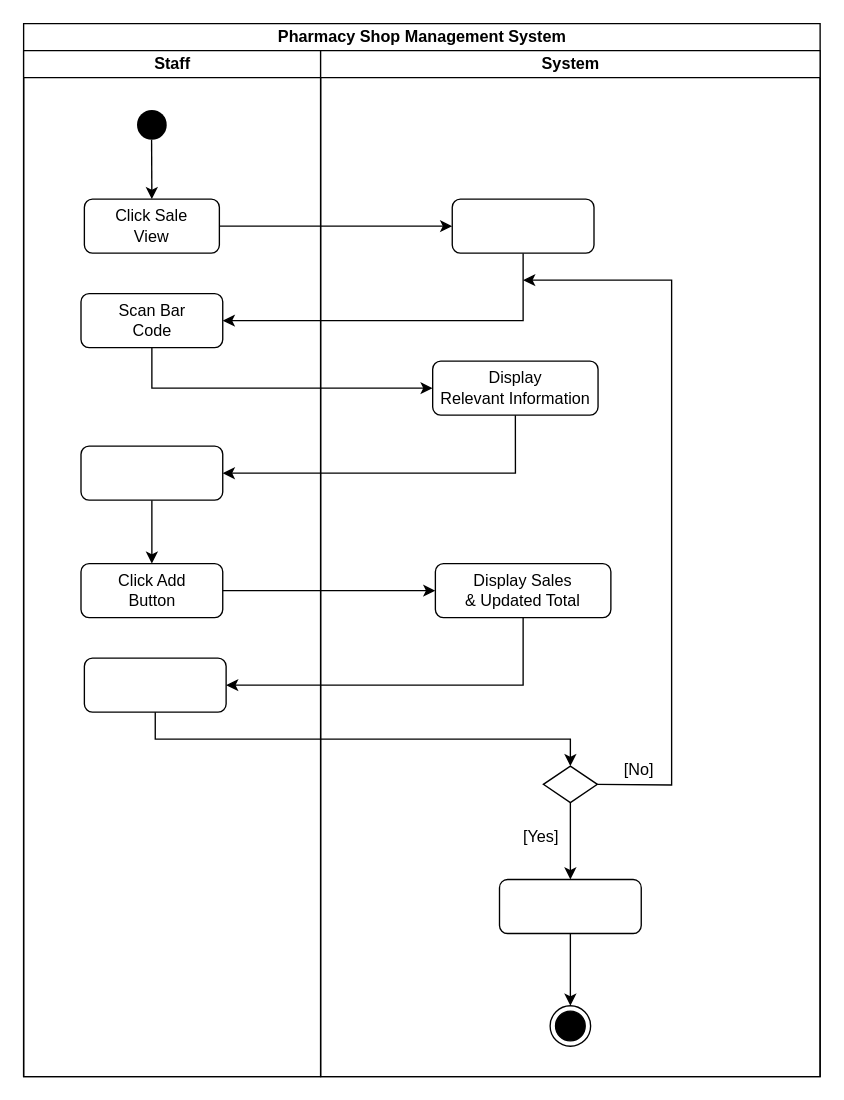
Image size: 844x1100. Some labels were removed from this diagram. Each missing label, with the centre of its shape:
Change Quantity: the point at 151,472
Click Pay Button: the point at 154,684
Display Sale View: the point at 522,225
Genarate Invoice: the point at 569,906
